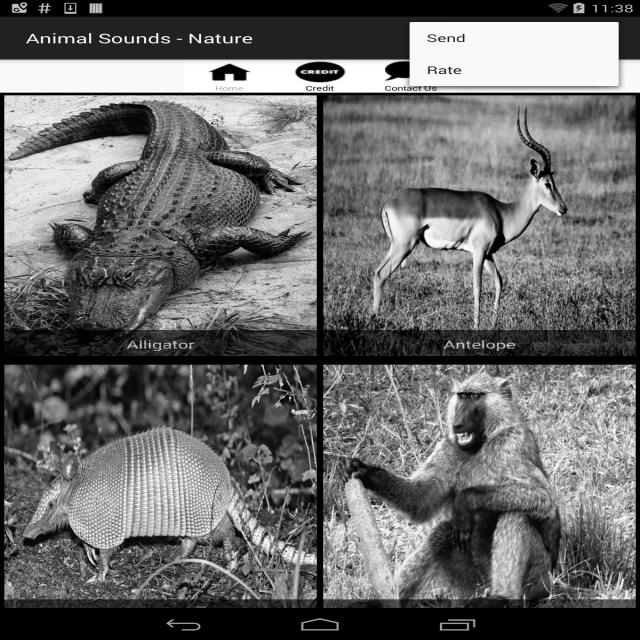ImageView: (2, 94, 319, 330), (324, 94, 635, 328), (11, 365, 320, 597), (328, 365, 630, 593), (292, 60, 356, 84), (208, 61, 253, 83)
TextView: (24, 30, 257, 47), (441, 337, 520, 353), (126, 337, 199, 352), (422, 62, 468, 77), (424, 32, 471, 43)
